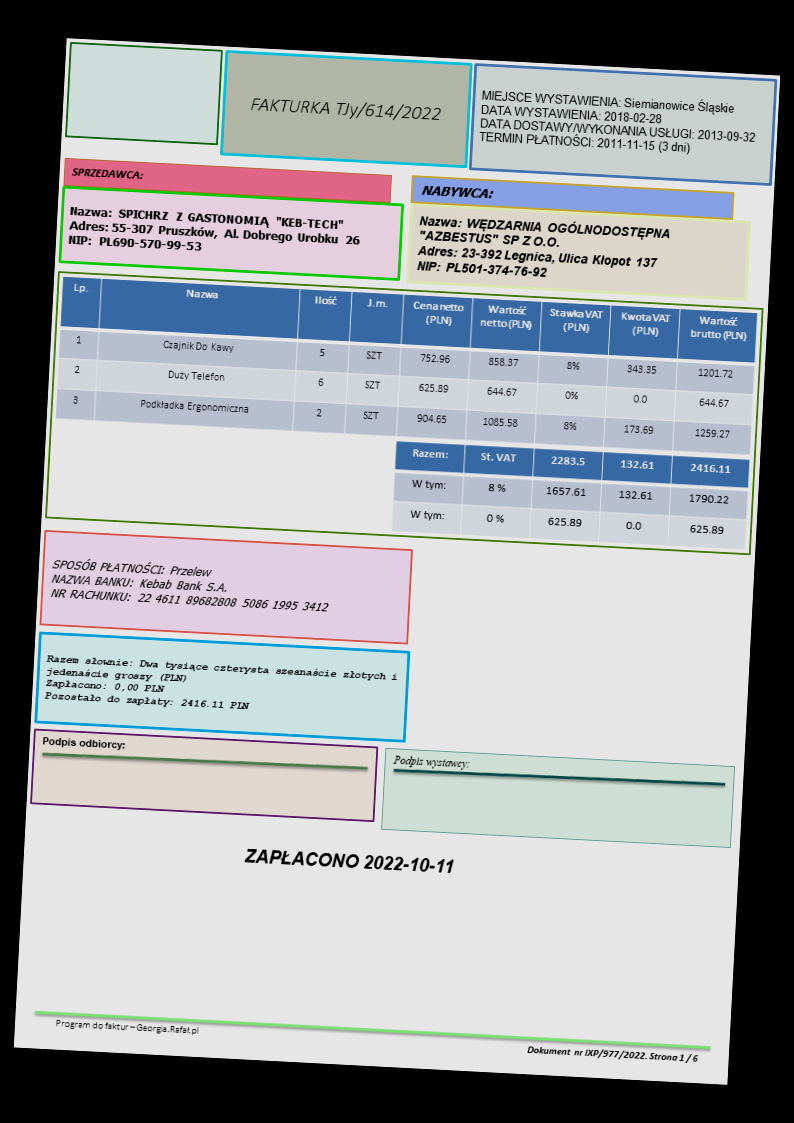Table: (54, 275, 758, 455), (390, 439, 751, 551)
TextBox: (43, 653, 398, 720), (476, 87, 759, 161), (414, 212, 672, 285), (66, 203, 362, 263), (47, 555, 332, 614), (241, 844, 456, 876), (247, 95, 442, 124), (524, 1044, 699, 1065), (53, 1017, 201, 1037), (39, 733, 127, 753), (390, 751, 471, 772), (68, 164, 145, 184), (419, 182, 495, 201)
